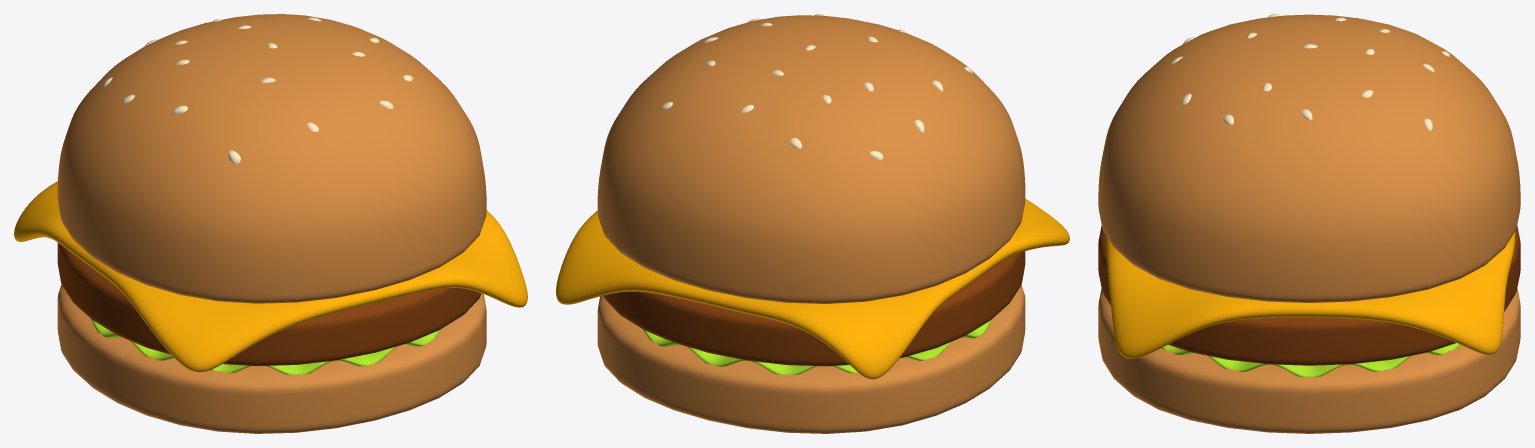
The model's file is burger steak lettuce cheese.glb.
The picture shows the model from 3 angles, left to right: view 1: azimuth 30°, elevation 25°; view 2: azimuth 150°, elevation 25°; view 3: azimuth 270°, elevation 25°; orthographic projection.
Visible parts, largest first — view 1: burger steak salade fromage; view 2: burger steak salade fromage; view 3: burger steak salade fromage.
Part boxes in pixels (box(x1,y1,x2,y2)): burger steak salade fromage: box(14, 14, 527, 433); burger steak salade fromage: box(556, 14, 1069, 433); burger steak salade fromage: box(1098, 14, 1520, 433).
Bounding box in the file's own units: 1.31 × 1.07 × 1.31.
